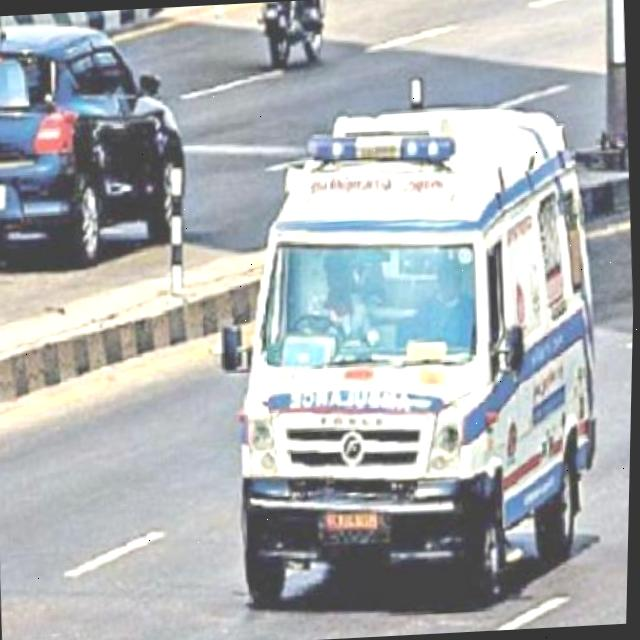emergency: (202, 67, 617, 618)
